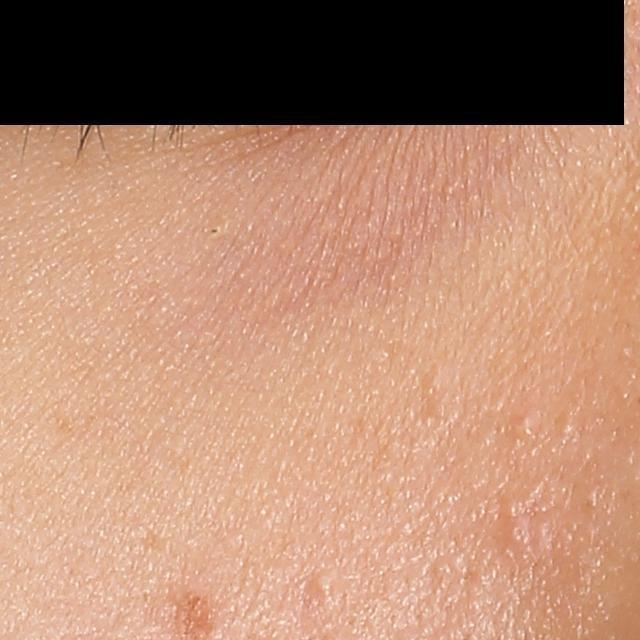comedo: (498, 522, 527, 553), (507, 415, 537, 442), (305, 578, 336, 604)
